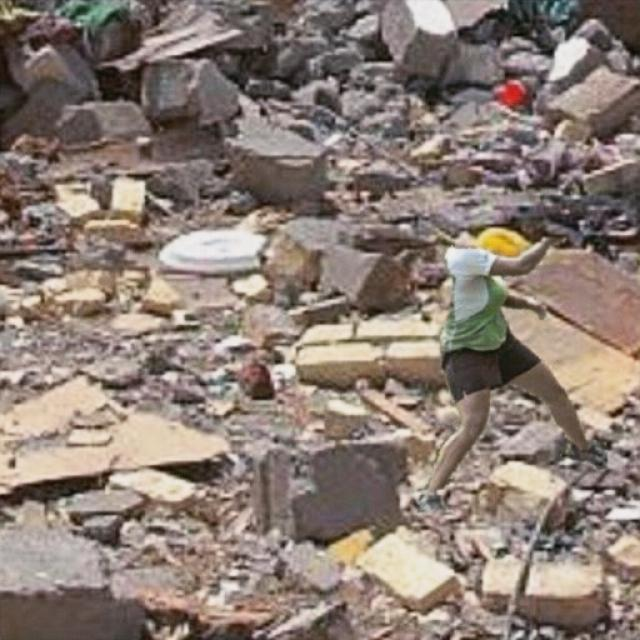Person in Rubble: (416, 238, 606, 512)
